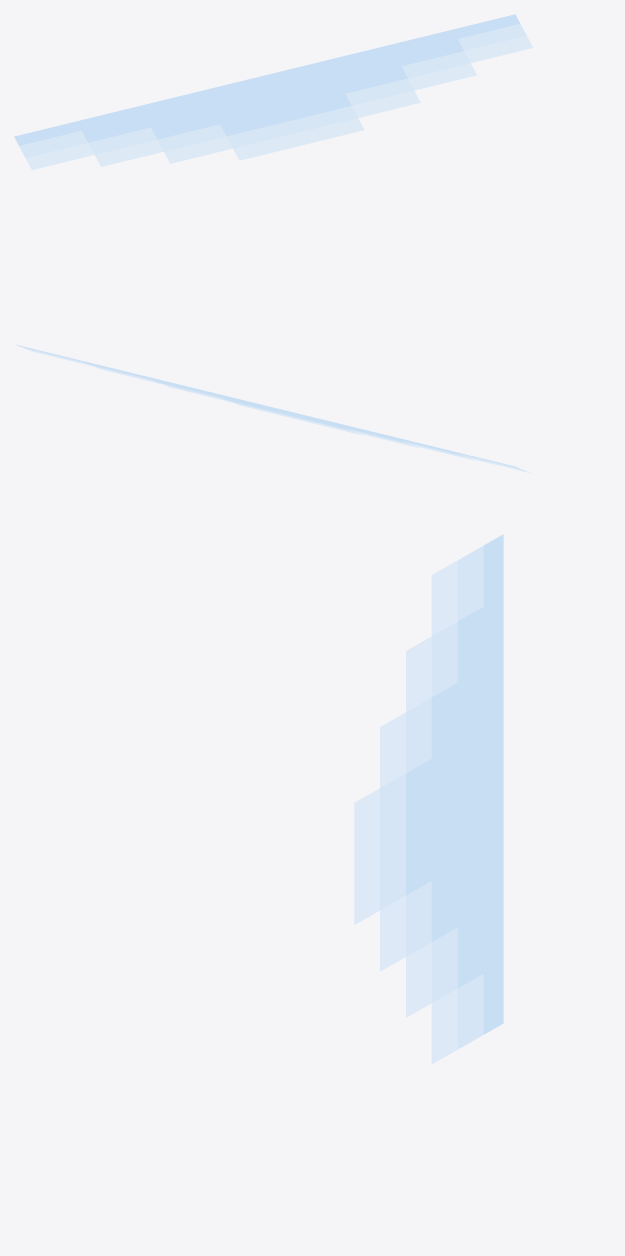
The picture shows the model from 3 angles, top to bottom: view 1: azimuth 30°, elevation 25°; view 2: azimuth 150°, elevation 25°; view 3: azimuth 270°, elevation 25°; orthographic projection. The views are drawn at different scales.
Size of the model in its own units: 1 by 0.2081 by 0.3301.
Materials: 1 (1 with a texture image).
